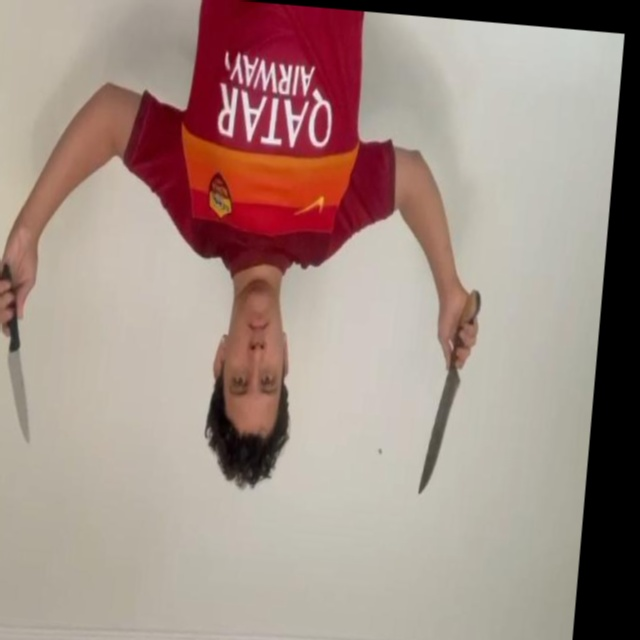Sharp-Object: (417, 368, 460, 498), (2, 351, 36, 442)
